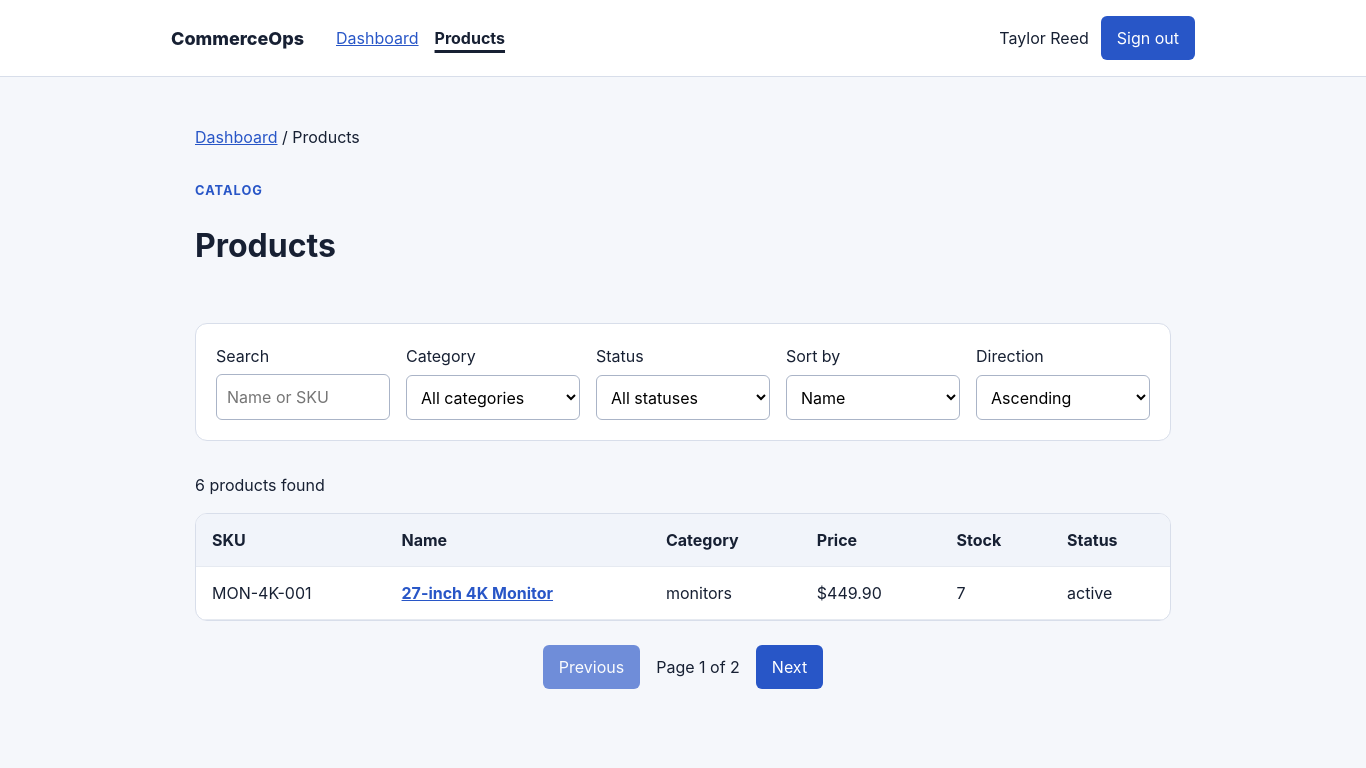
Test: authentication UI › moves through server-side product pages
The image size is (1366, 768).
Click the button "Next" at (789, 667), box [756,645,823,689]
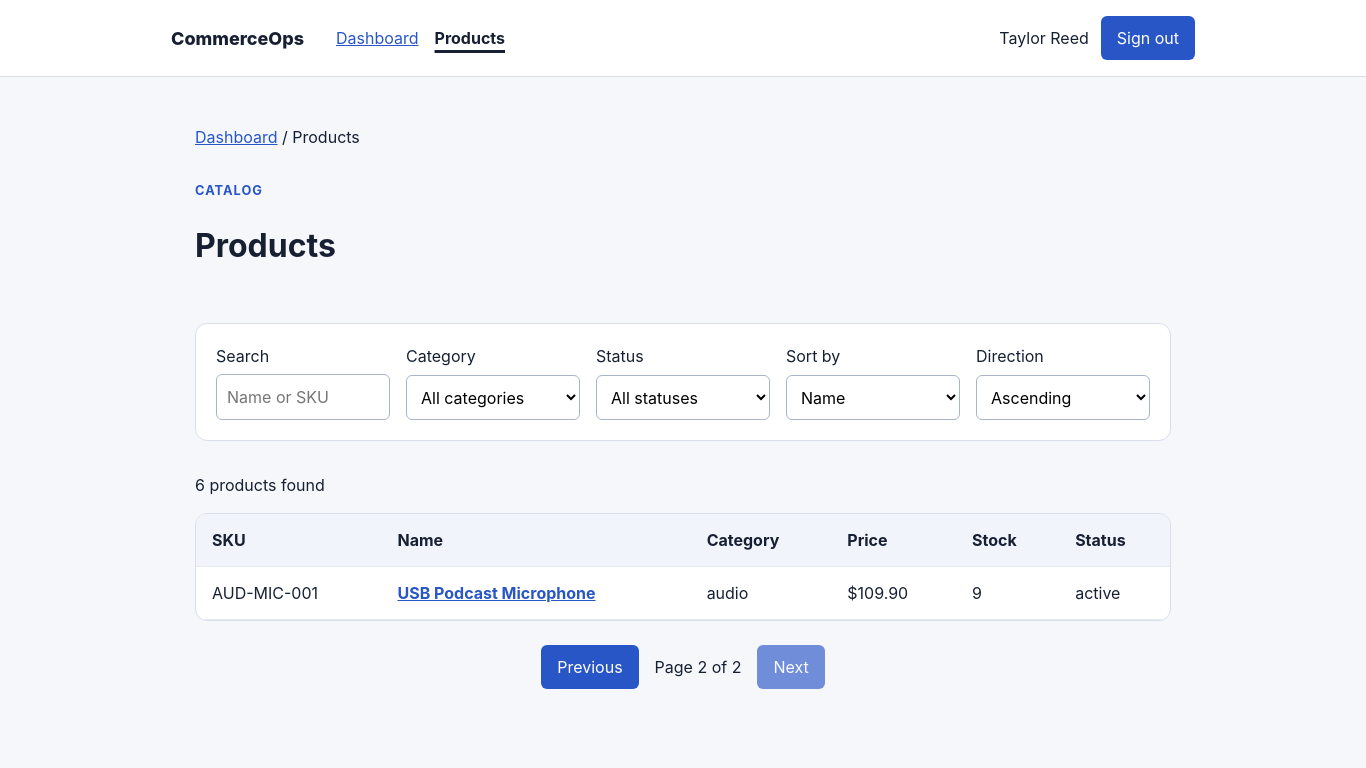
Expected: the text "Page 2 of 2" is shown, [655,655,742,679]
